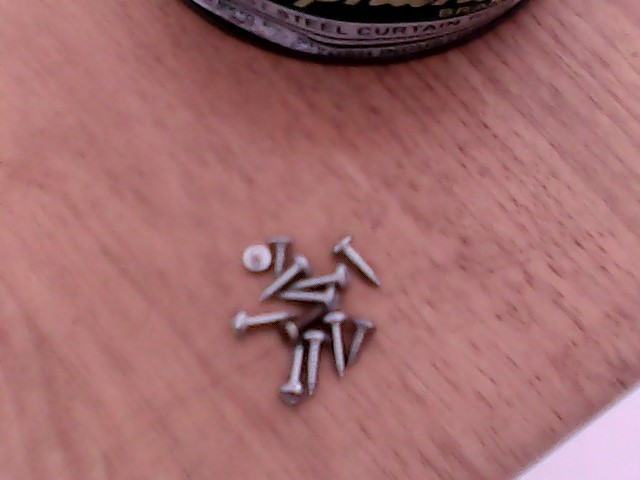Metal: (188, 207, 401, 407)
